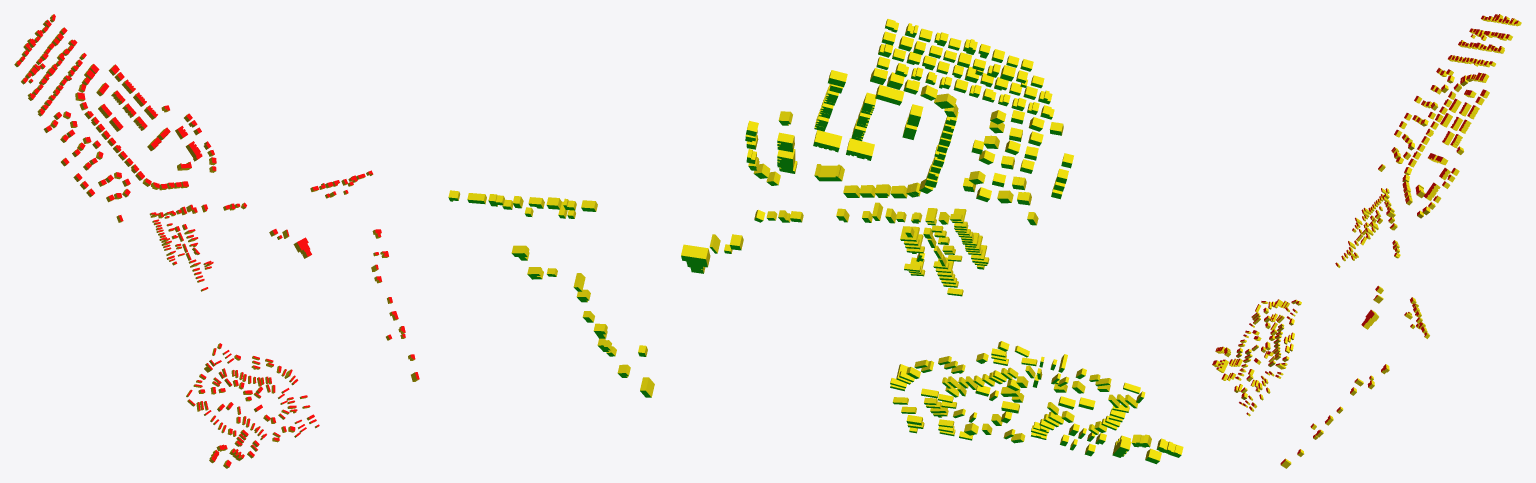
The picture shows the model from 3 angles, left to right: view 1: azimuth 30°, elevation 25°; view 2: azimuth 150°, elevation 25°; view 3: azimuth 270°, elevation 25°; orthographic projection. The views are drawn at different scales.
Visible parts, largest first — view 1: mesh; view 2: mesh; view 3: mesh.
Boxes of the visible parts, x1=… form: mesh: x1=14, y1=14, x2=419, y2=468; mesh: x1=448, y1=19, x2=1183, y2=464; mesh: x1=1212, y1=14, x2=1521, y2=468.
Size of the model in its own units: 1034 by 1042 by 865.
